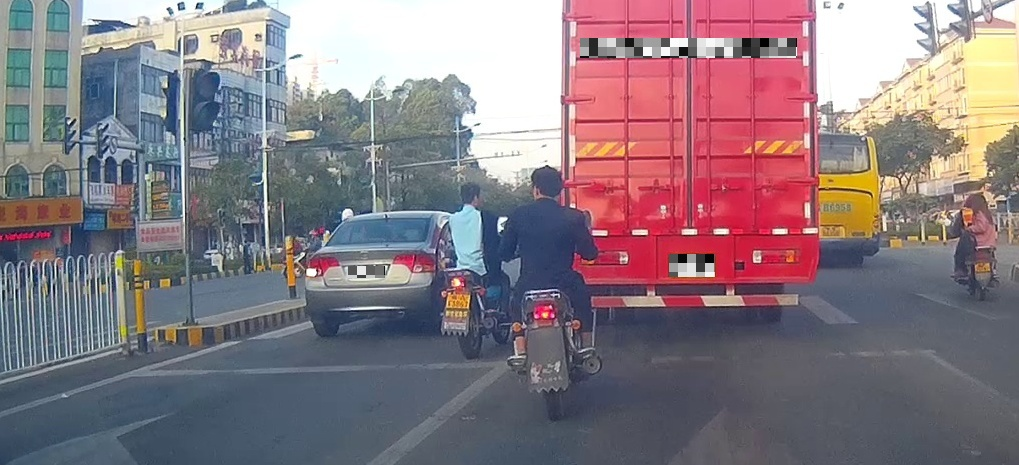L_light: (305, 256, 341, 277)
R_light: (391, 252, 435, 273)
T_light: (375, 219, 398, 225)
day-left: (304, 211, 437, 336)
plate_1: (348, 266, 385, 278)
plate_2: (580, 38, 797, 58)
plate_3: (669, 254, 715, 277)
